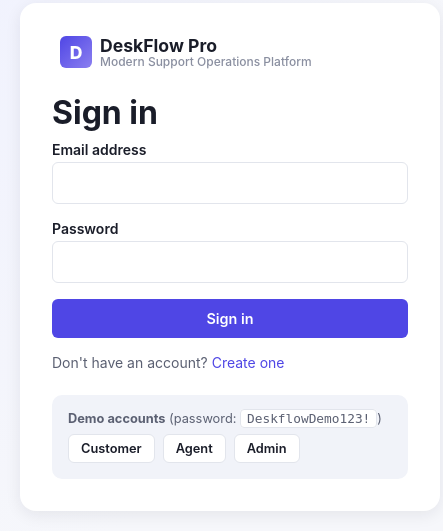
Test: LoginPage › fills demo credentials when a demo account button is clicked
Click the button "Admin": (267, 448) x1=234 y1=434 x2=300 y2=463
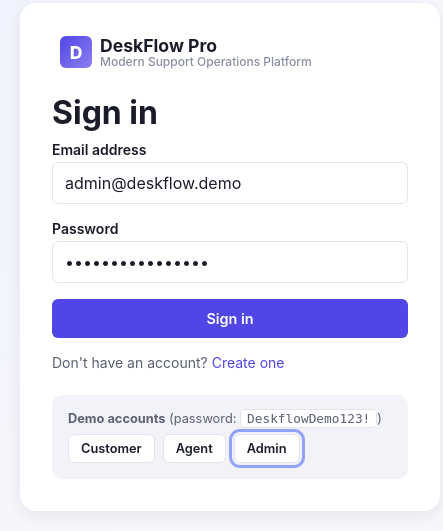
Expected: the field labelled "Email address" holds "admin@deskflow.demo", x1=52 y1=162 x2=408 y2=204
